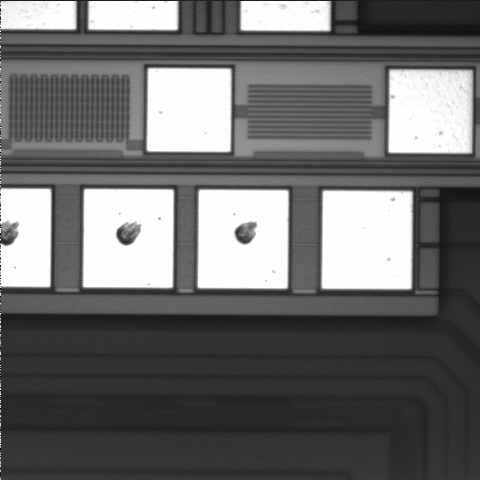pad: (83, 189, 173, 288), (198, 190, 288, 289), (322, 191, 412, 289), (147, 68, 231, 152), (389, 70, 472, 153)
